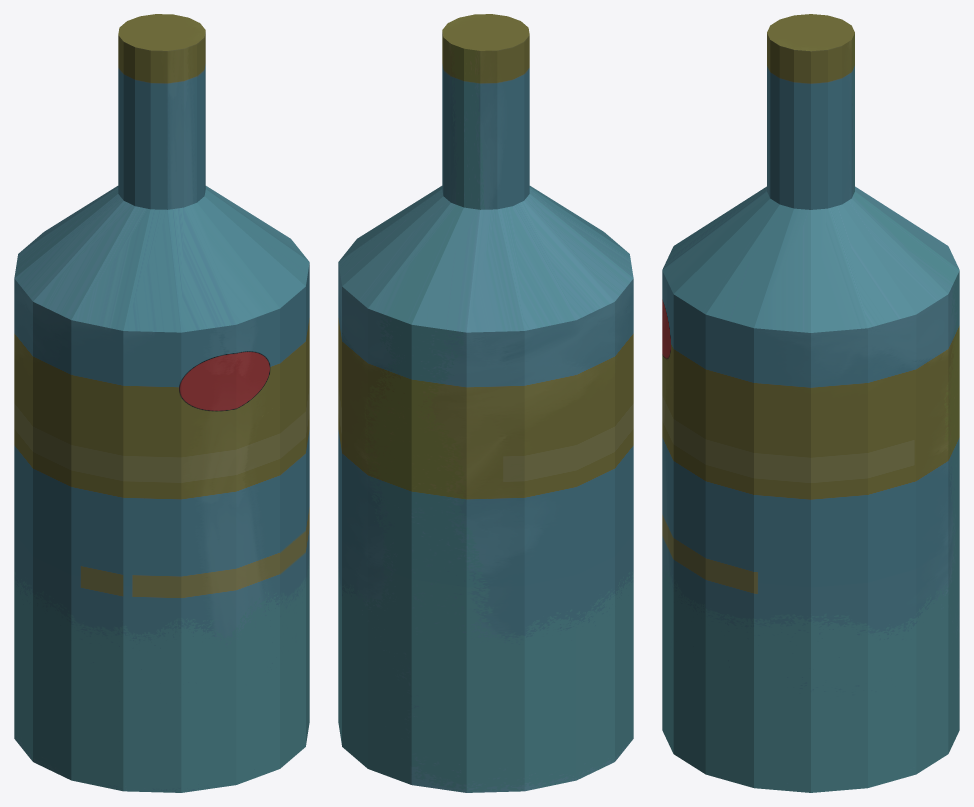
Rendered from caxaxinha.obj.
The picture shows the model from 3 angles, left to right: view 1: azimuth 30°, elevation 25°; view 2: azimuth 150°, elevation 25°; view 3: azimuth 270°, elevation 25°; orthographic projection.
Visible parts, largest first — view 1: Cylinder; view 2: Cylinder; view 3: Cylinder.
Boxes of the visible parts, bbox=[...] form: Cylinder: bbox=[14, 14, 309, 792]; Cylinder: bbox=[338, 14, 633, 792]; Cylinder: bbox=[662, 14, 959, 792].
Bounding box in the file's own units: 2 × 5.17 × 2.
1 material, 1 textured.
